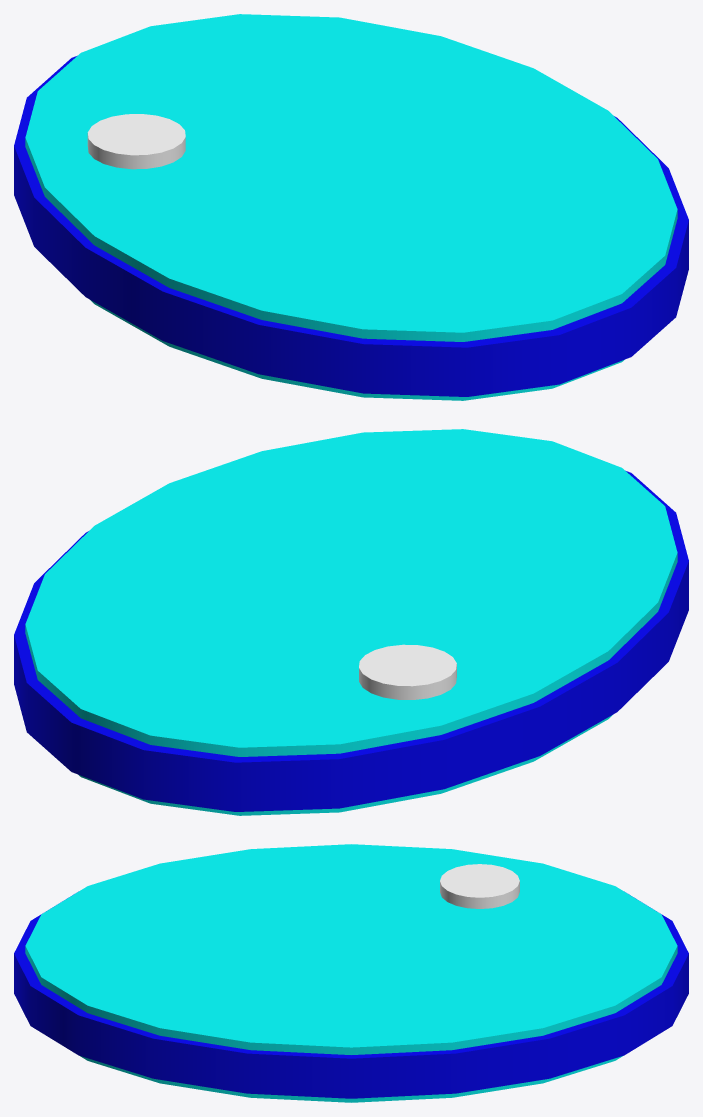
3 views of the same model, one above another, from view 1: azimuth 30°, elevation 25°; view 2: azimuth 150°, elevation 25°; view 3: azimuth 270°, elevation 25° (orthographic). The views are drawn at different scales.
Parts seen in each view (by area): view 1: pCylinder4; view 2: pCylinder4; view 3: pCylinder4.
Boxes of the visible parts, x1,y1,x2,y2 form: pCylinder4: [14, 14, 688, 400]; pCylinder4: [14, 429, 688, 815]; pCylinder4: [14, 844, 688, 1102].
Size of the model in its own units: 2.48 by 0.4276 by 3.36.
